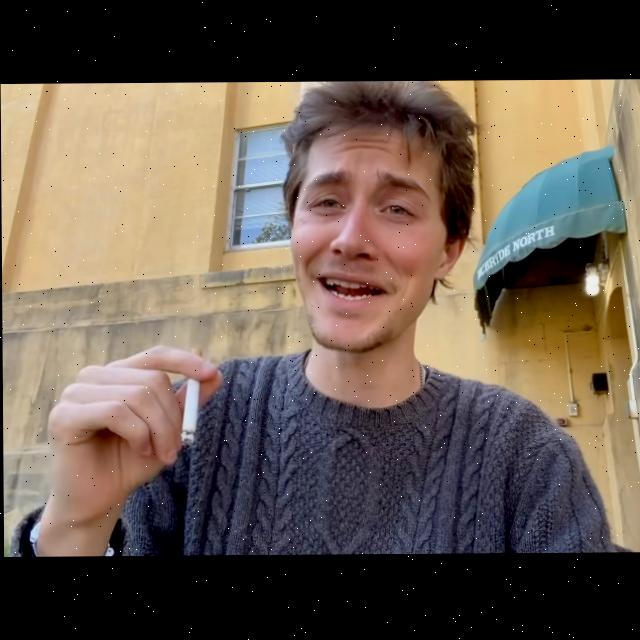cigarette: (179, 347, 204, 446)
